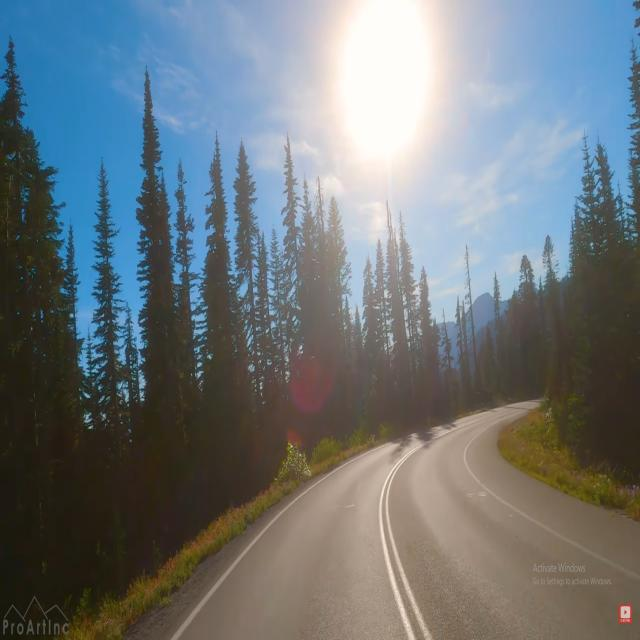sun: (308, 1, 465, 199)
